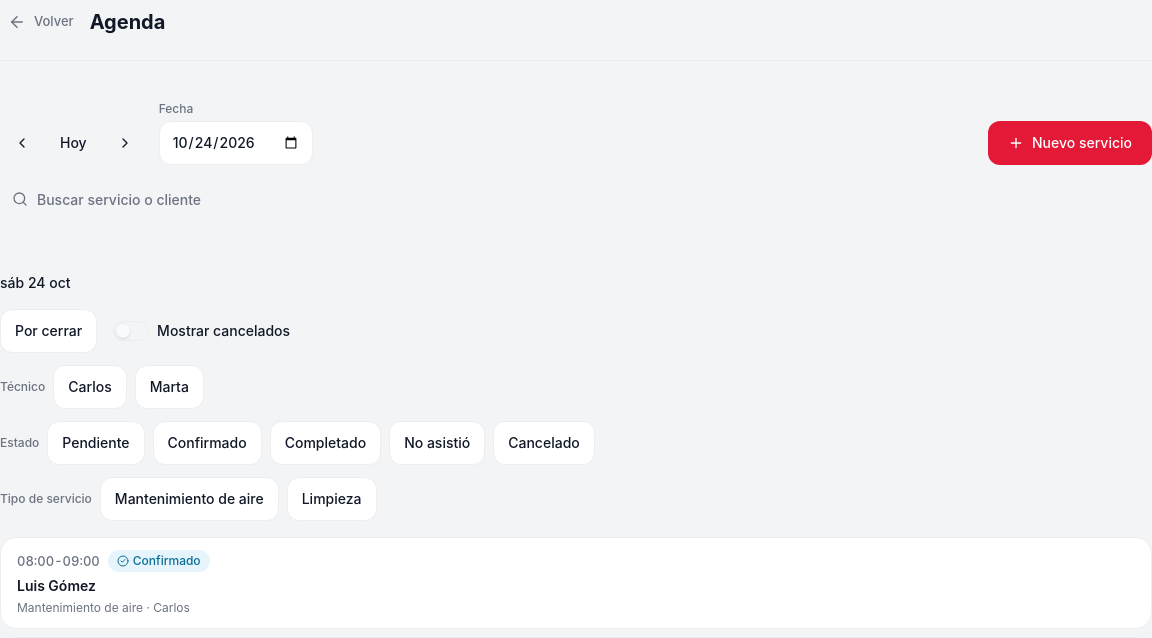
Test: AgendaPage en móvil: lista de un día › anterior, siguiente y Hoy avanzan de a un día
Click the button named "Día siguiente" at (125, 143), box [103, 121, 147, 165]
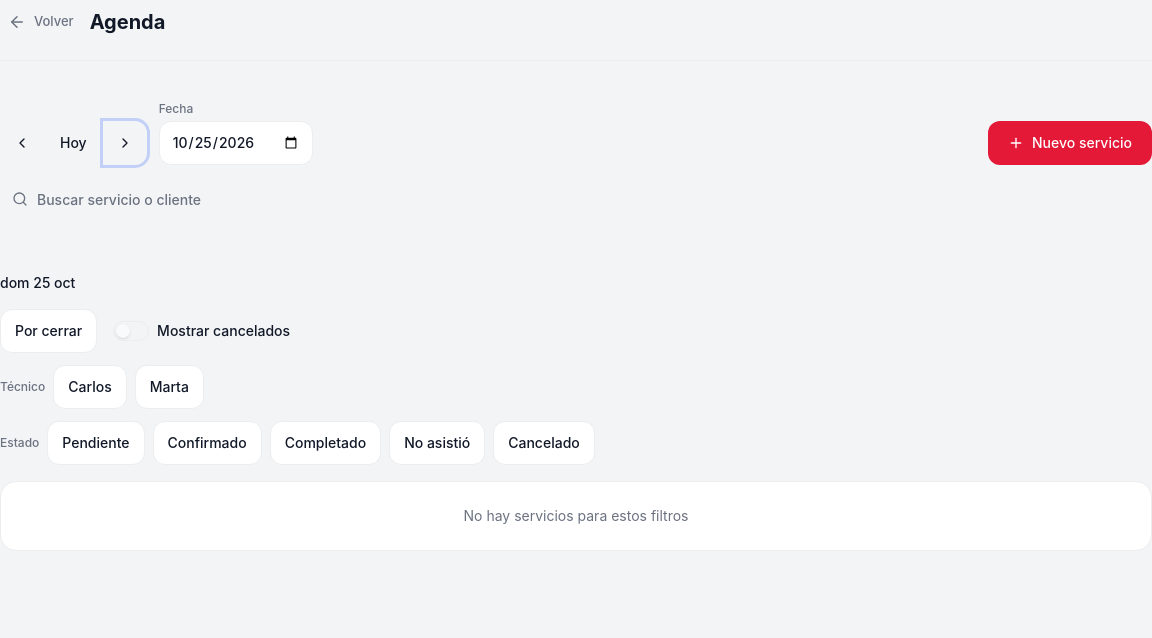
Now the date field labelled "Fecha" holds "2026-10-25", box [159, 121, 313, 165]
Click the button named "Día anterior" at (22, 143), box [0, 121, 44, 165]
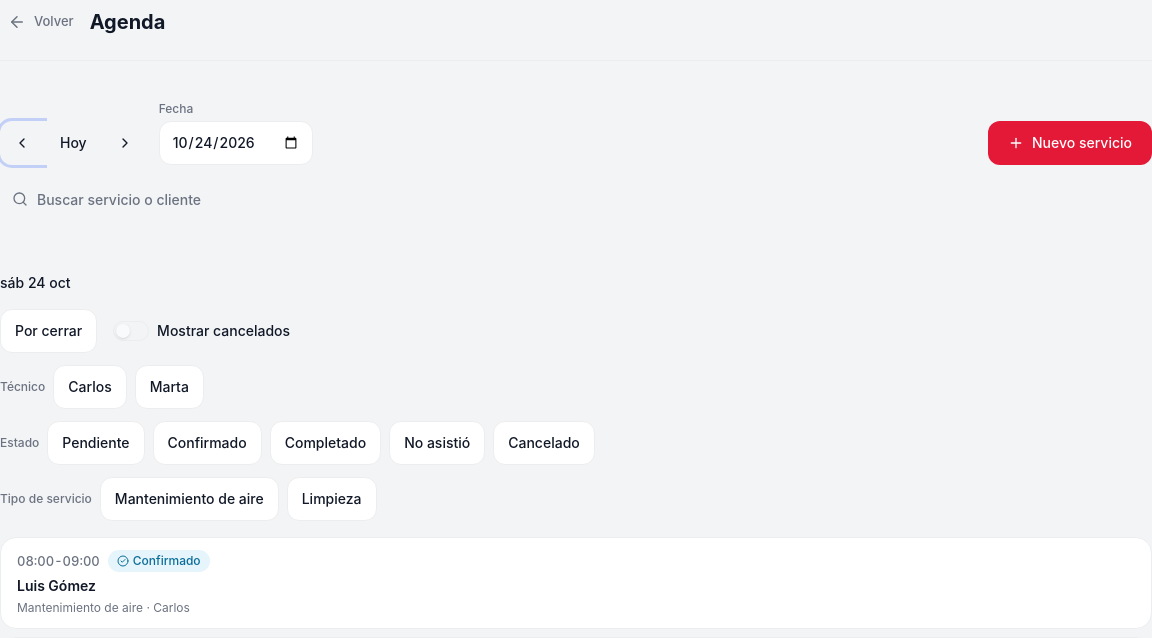
Click the button named "Día anterior" at (22, 143), box [0, 121, 44, 165]
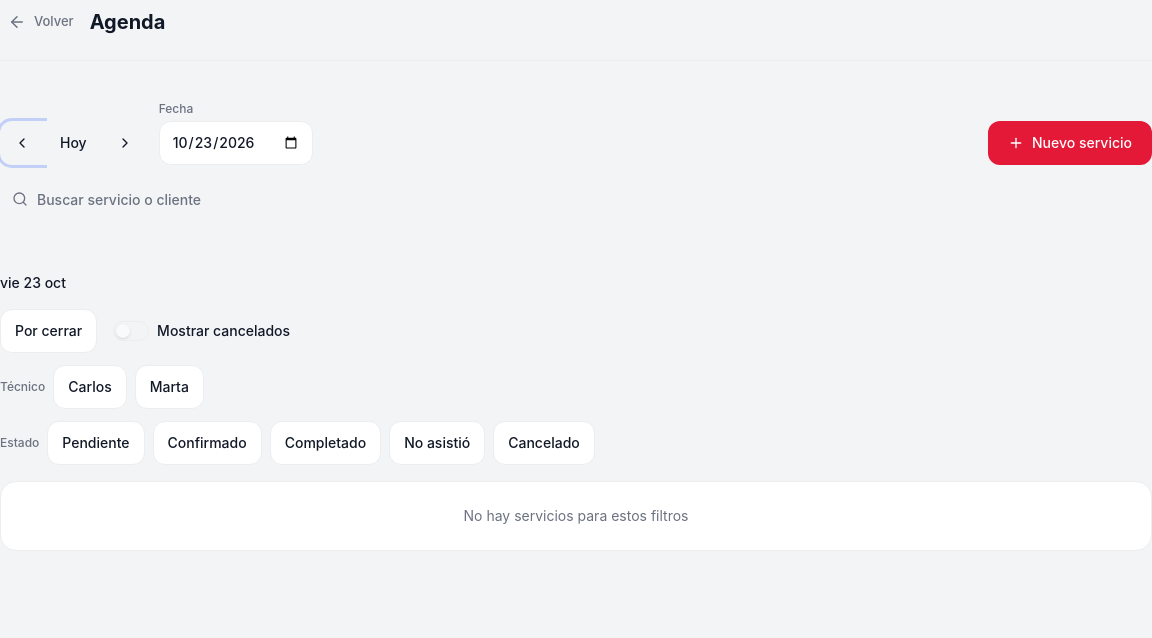
Now the date field labelled "Fecha" holds "2026-10-23", box [159, 121, 313, 165]
Click the button named "Día anterior" at (22, 143), box [0, 121, 44, 165]
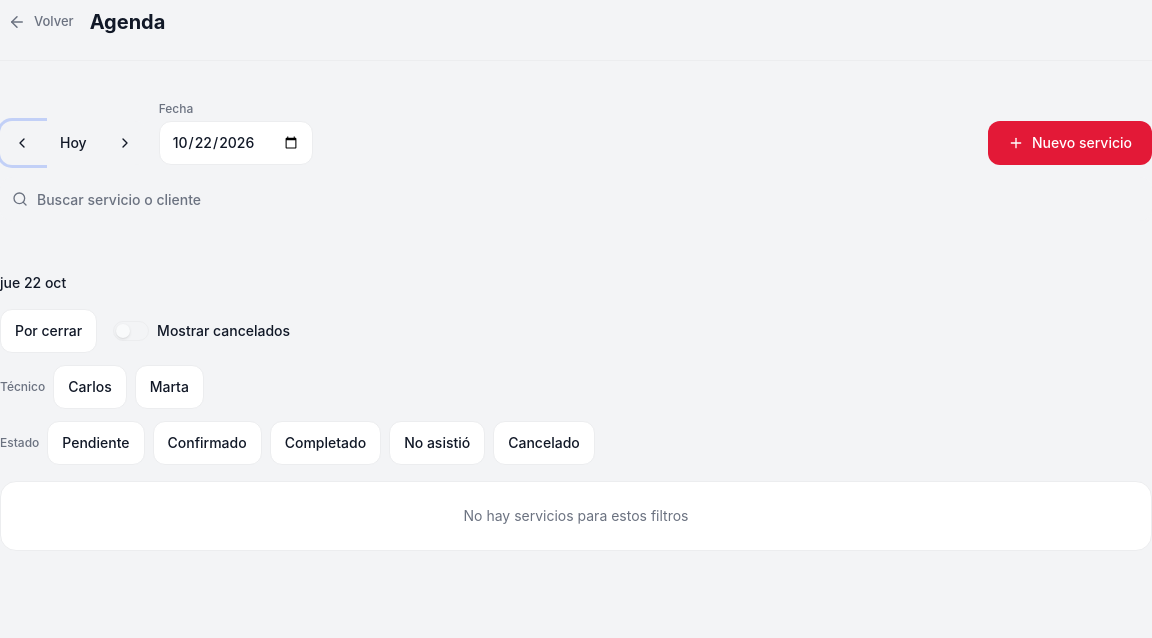
Now the date field labelled "Fecha" holds "2026-10-22", box [159, 121, 313, 165]
Click the button "Hoy" at (73, 143), box [44, 121, 103, 165]
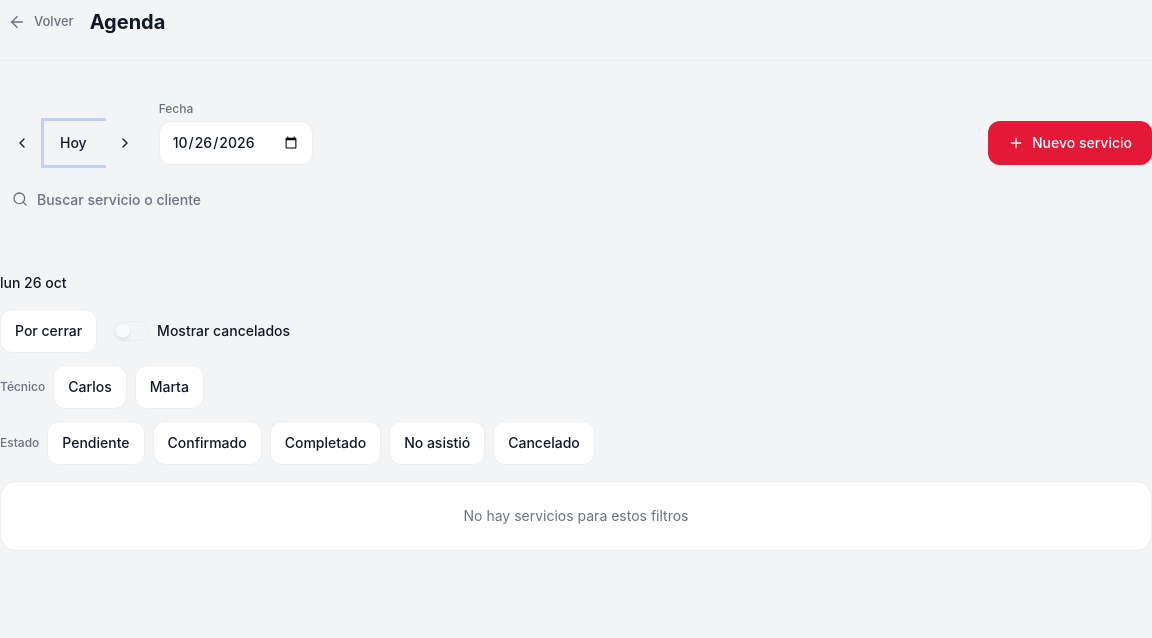
Now the date field labelled "Fecha" holds "2026-10-26", box [159, 121, 313, 165]
